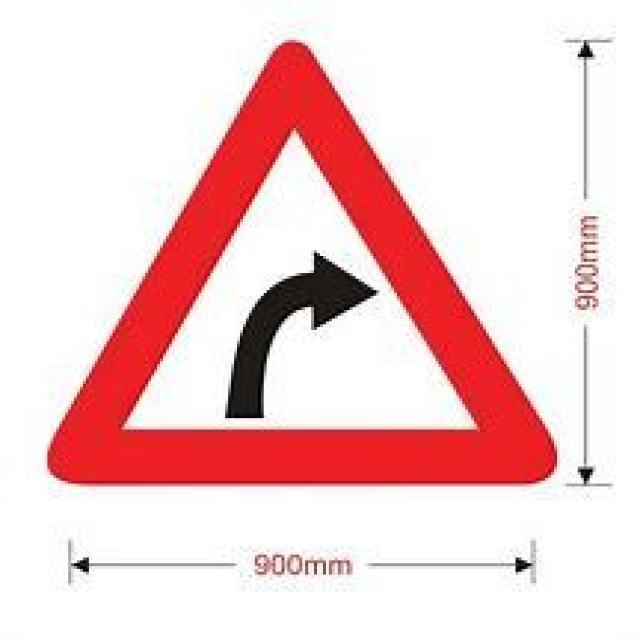right hand curve: (47, 41, 557, 489)
